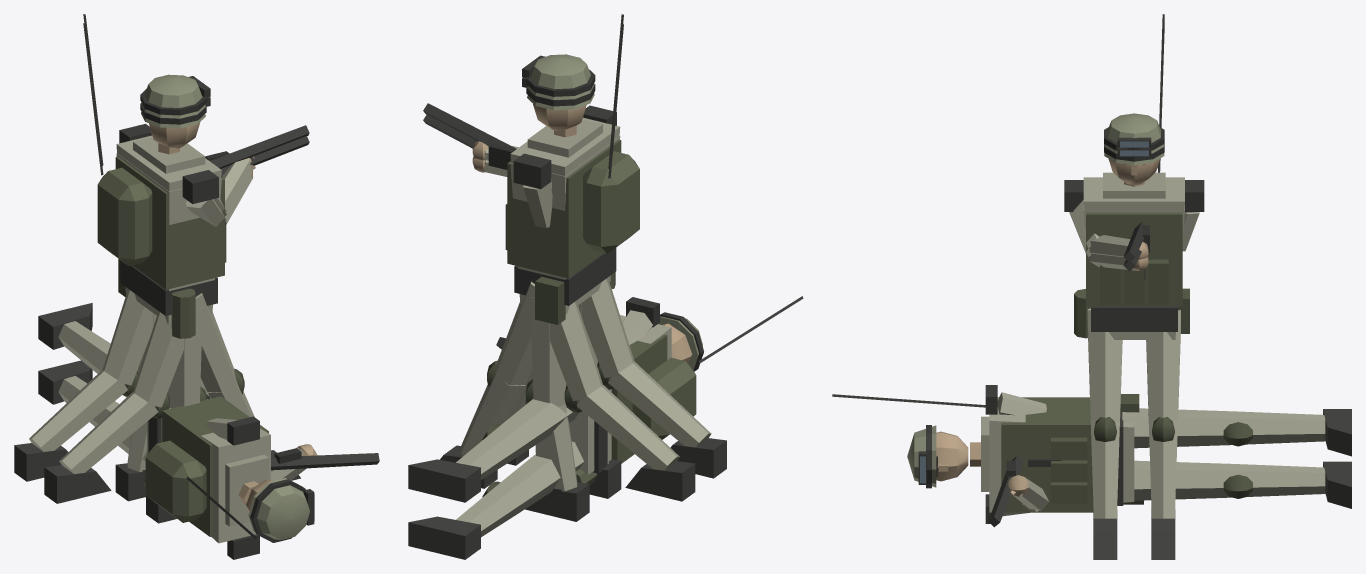
The model's file is inf.glb.
The picture shows the model from 3 angles, left to right: view 1: azimuth 30°, elevation 25°; view 2: azimuth 150°, elevation 25°; view 3: azimuth 270°, elevation 25°; orthographic projection. The views are drawn at different scales.
Parts seen in each view (by area): view 1: dead, hull, pose0, pose1, pose3; view 2: dead, pose0, hull, pose3, pose1; view 3: dead, hull, pose0, pose1, pose3.
Boxes of the visible parts, x1,y1,x2,y2 form: dead: (38,303,379,559); hull: (83,14,309,519); pose0: (83,23,309,523); pose1: (14,290,300,481); pose3: (44,301,210,503); dead: (408,296,803,559); pose0: (423,24,639,521); hull: (423,14,639,505); pose3: (440,278,726,488); pose1: (506,290,695,501); dead: (832,385,1351,527); hull: (1064,14,1204,328); pose0: (1064,25,1204,417); pose1: (1087,310,1122,559); pose3: (1087,308,1180,559).
Size of the model in its own units: 1.24 by 2.15 by 2.15.
